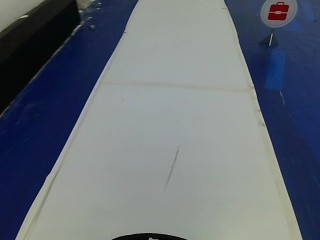company: (259, 0, 296, 31)
